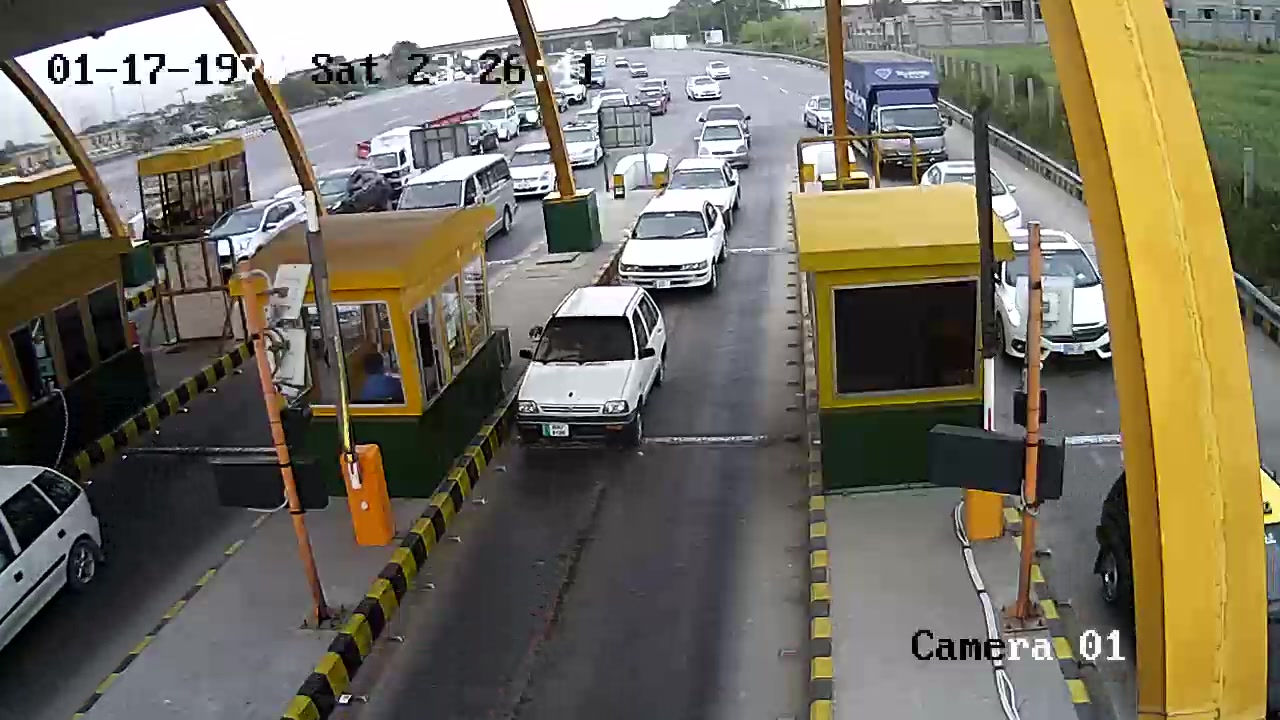F1: (501, 286, 677, 444)
